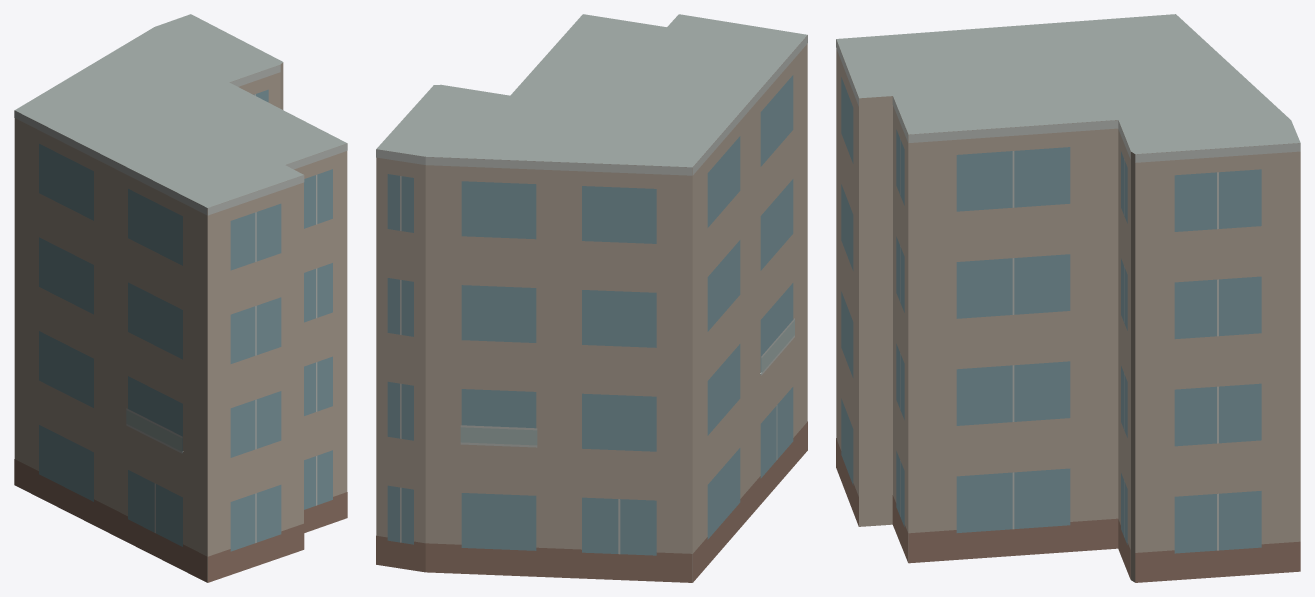
The model's file is survey-upis-32469348.glb.
The picture shows the model from 3 angles, left to right: view 1: azimuth 30°, elevation 25°; view 2: azimuth 150°, elevation 25°; view 3: azimuth 270°, elevation 25°; orthographic projection. The views are drawn at different scales.
Parts seen in each view (by area): view 1: survey-upis-32469348.tmp; view 2: survey-upis-32469348.tmp; view 3: survey-upis-32469348.tmp.
Boxes of the visible parts, <box> form: survey-upis-32469348.tmp: <box>14,14,347,582</box>; survey-upis-32469348.tmp: <box>376,14,807,582</box>; survey-upis-32469348.tmp: <box>836,14,1300,582</box>.
Size of the model in its own units: 8.5 by 12.1 by 11.89.
